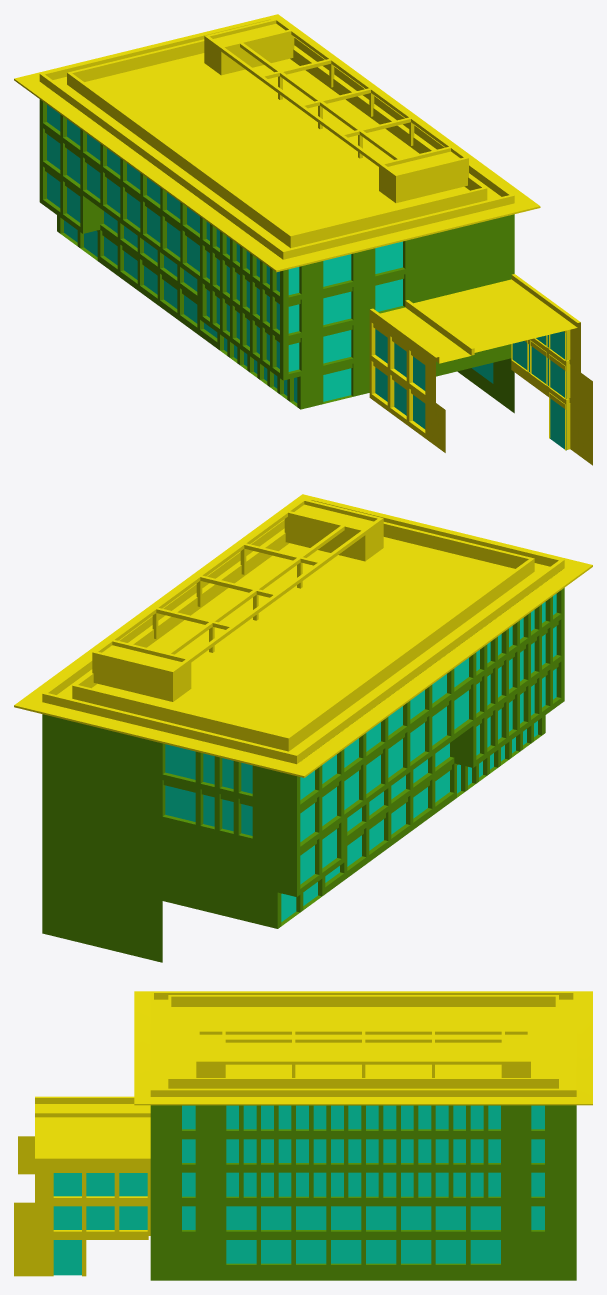
The model's file is SM_Bld_Blok3_01a.fbx.
The picture shows the model from 3 angles, top to bottom: view 1: azimuth 30°, elevation 25°; view 2: azimuth 150°, elevation 25°; view 3: azimuth 270°, elevation 25°; orthographic projection. The views are drawn at different scales.
Parts seen in each view (by area): view 1: SM_Bld_Blok3_01a; view 2: SM_Bld_Blok3_01a; view 3: SM_Bld_Blok3_01a.
Boxes of the visible parts, box(x1,y1,x2,y2) form: SM_Bld_Blok3_01a: box(14, 14, 592, 465); SM_Bld_Blok3_01a: box(14, 494, 592, 962); SM_Bld_Blok3_01a: box(14, 991, 592, 1280).
Bounding box in the file's own units: 2218 × 1936 × 4818.
